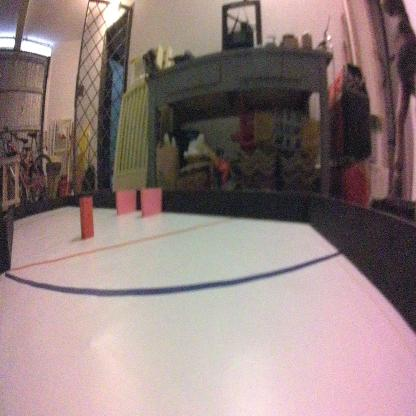magenta: (138, 185, 159, 217), (115, 188, 136, 214)
red: (78, 193, 93, 236)
